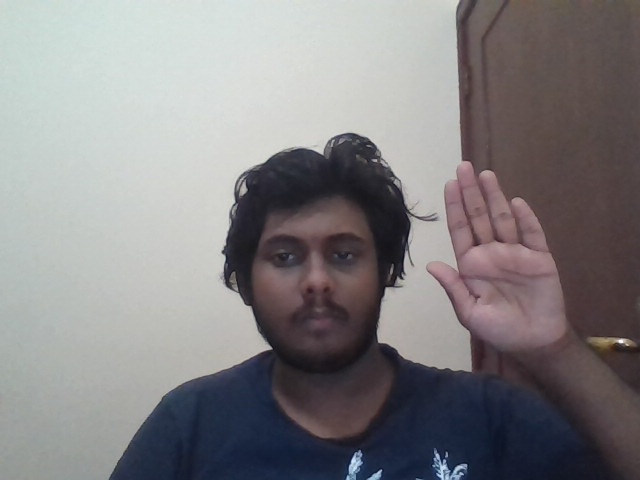hello: (425, 160, 568, 353)
